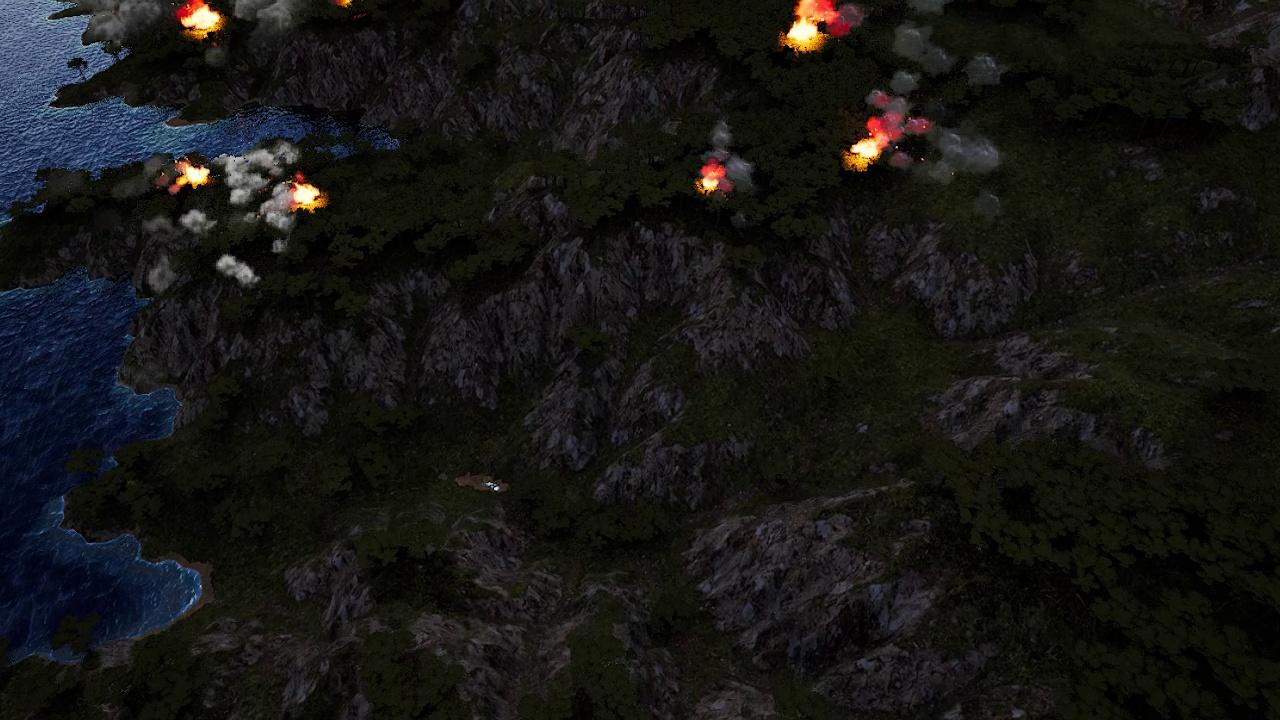fire: (786, 0, 841, 51), (849, 120, 891, 166), (181, 0, 224, 33), (290, 180, 322, 210), (180, 161, 213, 190), (697, 164, 726, 195), (334, 0, 355, 8)
smoke: (842, 0, 1004, 189), (137, 138, 298, 295), (50, 0, 193, 43), (207, 0, 357, 32), (701, 118, 761, 197), (114, 154, 175, 199)
